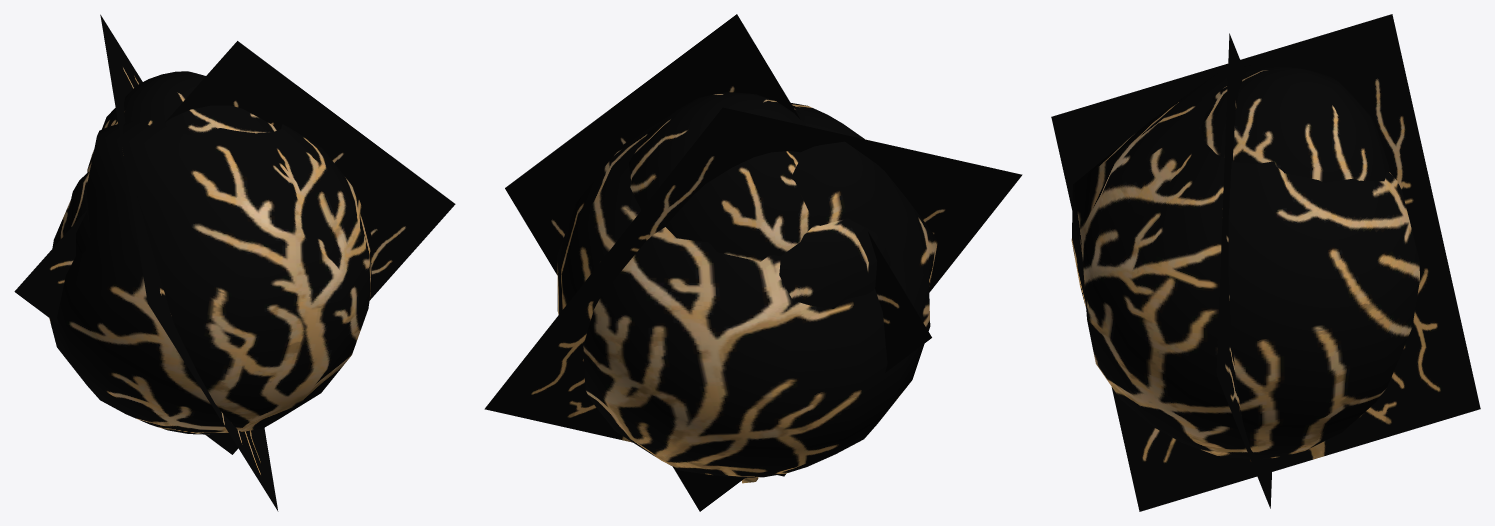
The model's file is P_Tumbleweed01.obj.
3 views of the same model, side by side, from view 1: azimuth 30°, elevation 25°; view 2: azimuth 150°, elevation 25°; view 3: azimuth 270°, elevation 25° (orthographic). The views are drawn at different scales.
Bounding box in the file's own units: 1.82 × 1.87 × 1.52.
